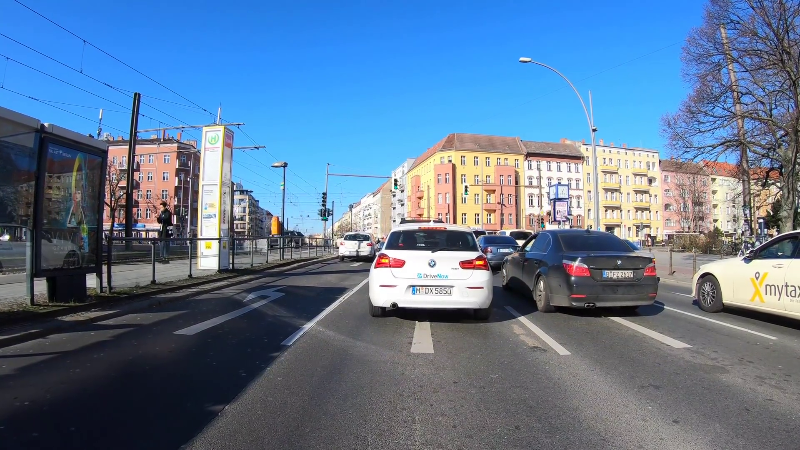Plate: (409, 285, 453, 295), (601, 268, 635, 279), (498, 248, 511, 253), (347, 250, 361, 253)
